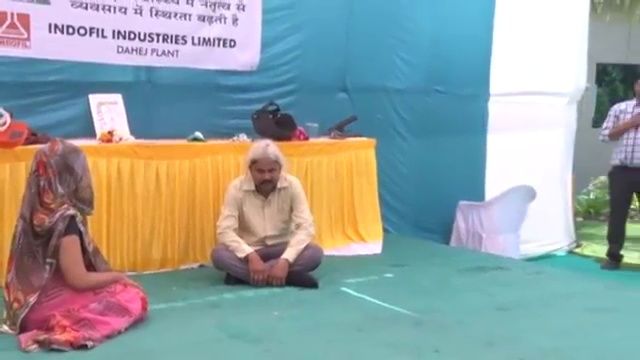helmet_off: (26, 145, 95, 213), (247, 142, 283, 194)
person: (1, 137, 150, 354), (209, 138, 324, 291), (599, 78, 640, 273)
